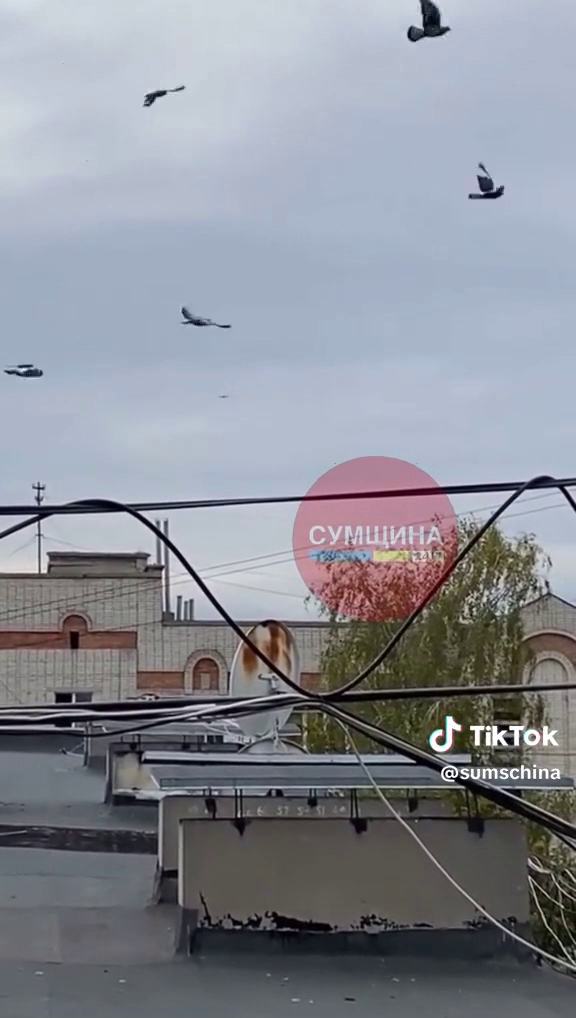not_drone: (172, 298, 235, 336), (403, 0, 453, 46), (464, 160, 508, 206), (138, 80, 189, 114), (0, 356, 49, 382)
